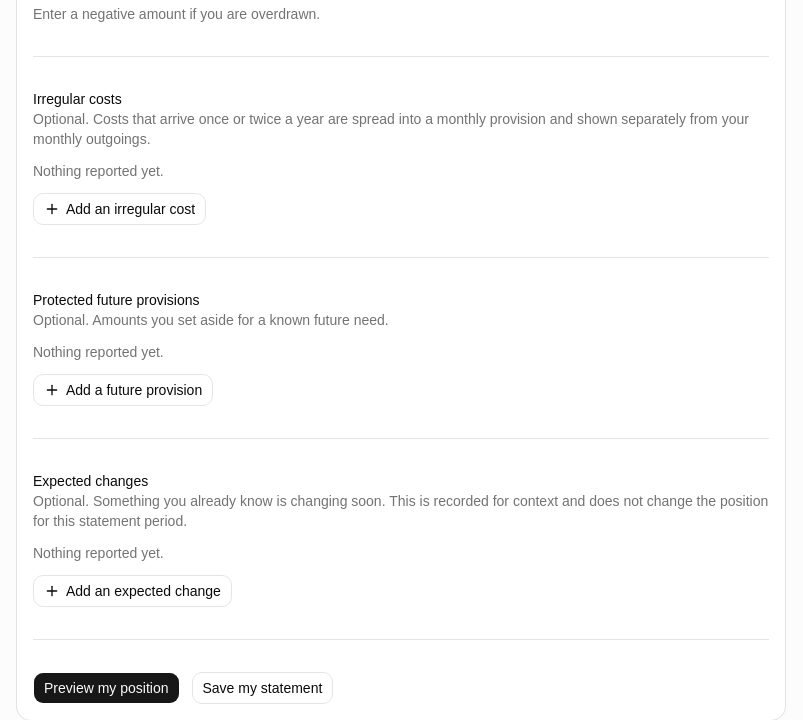
Test: StatementEditor › announces a successful save through a status message
(page scrolled)
Click the button "Save my statement" at (262, 688), box left=192, top=672, right=333, bottom=704
(page scrolled)
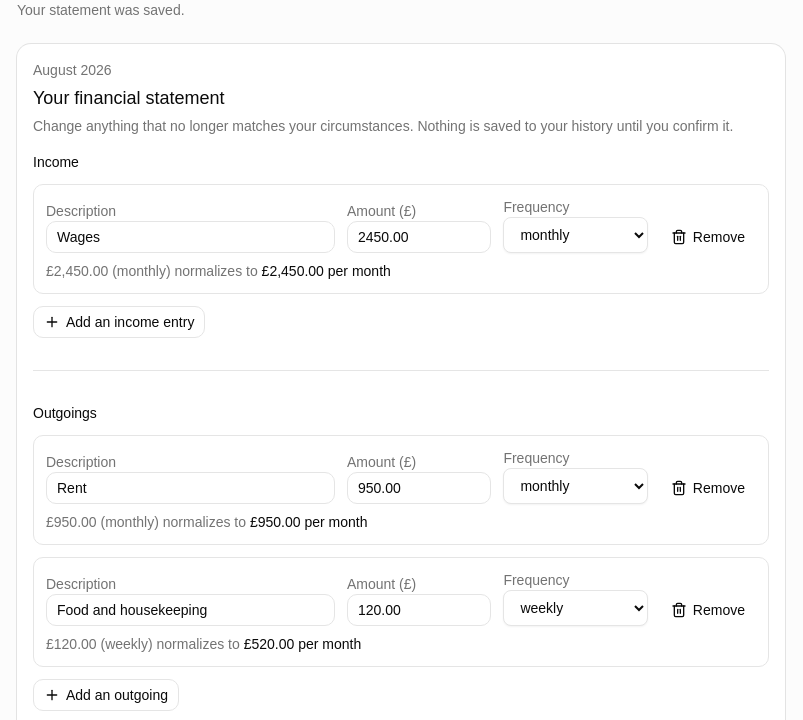
Check: the message shows "saved", box left=17, top=2, right=185, bottom=18
